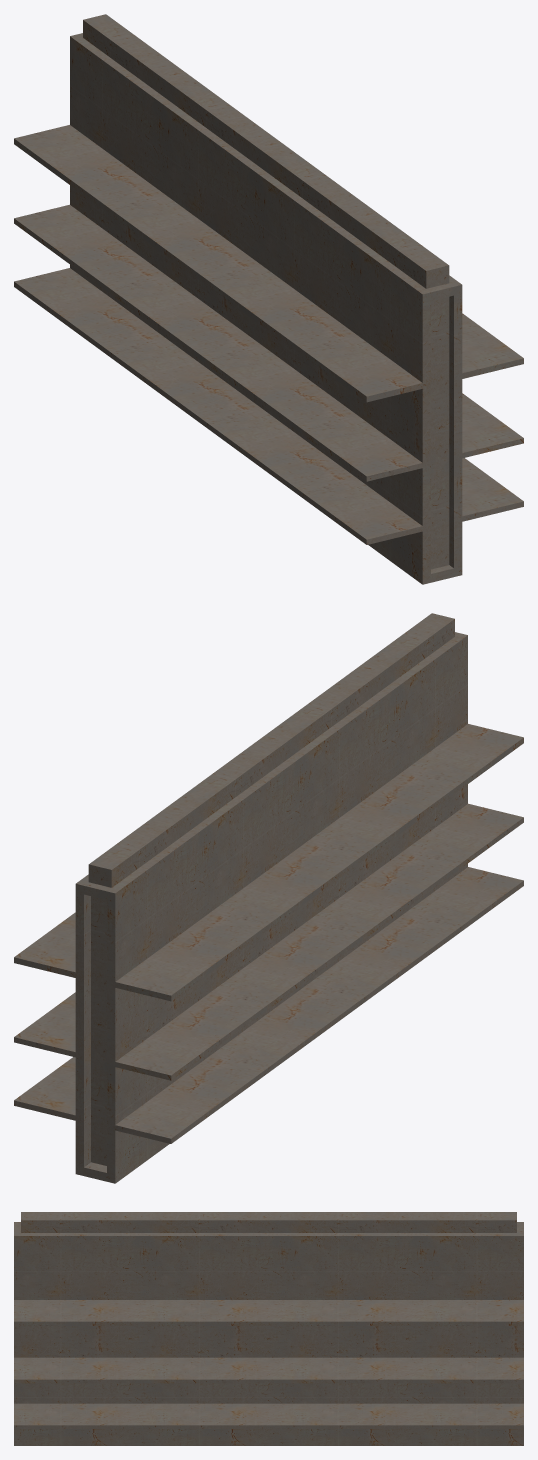
File: SM_Shelf.fbx
3 views of the same model, one above another, from view 1: azimuth 30°, elevation 25°; view 2: azimuth 150°, elevation 25°; view 3: azimuth 270°, elevation 25° (orthographic). The views are drawn at different scales.
Parts seen in each view (by area): view 1: SM_Shelf; view 2: SM_Shelf; view 3: SM_Shelf.
Boxes of the visible parts, x1,y1,x2,y2 form: SM_Shelf: (14, 14, 523, 584); SM_Shelf: (14, 613, 523, 1183); SM_Shelf: (14, 1212, 523, 1445).
Bounding box in the file's own units: 94.58 × 177 × 368.
1 material, 1 textured.
